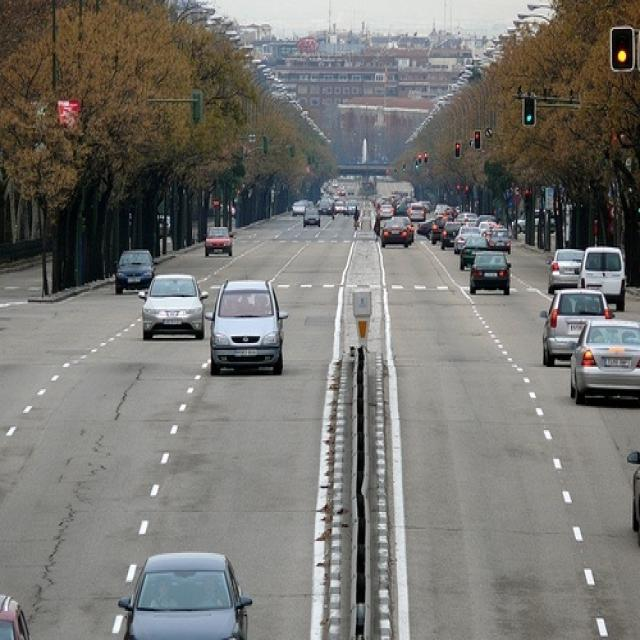Carro Azul Escuro: (116, 248, 152, 300)
Carro Prata: (210, 279, 286, 376), (566, 317, 640, 406), (539, 289, 617, 366), (142, 279, 205, 343), (548, 248, 584, 294)
Carro Preto: (124, 545, 250, 640), (466, 245, 509, 299)
Carro Vermelho: (204, 227, 233, 262)
